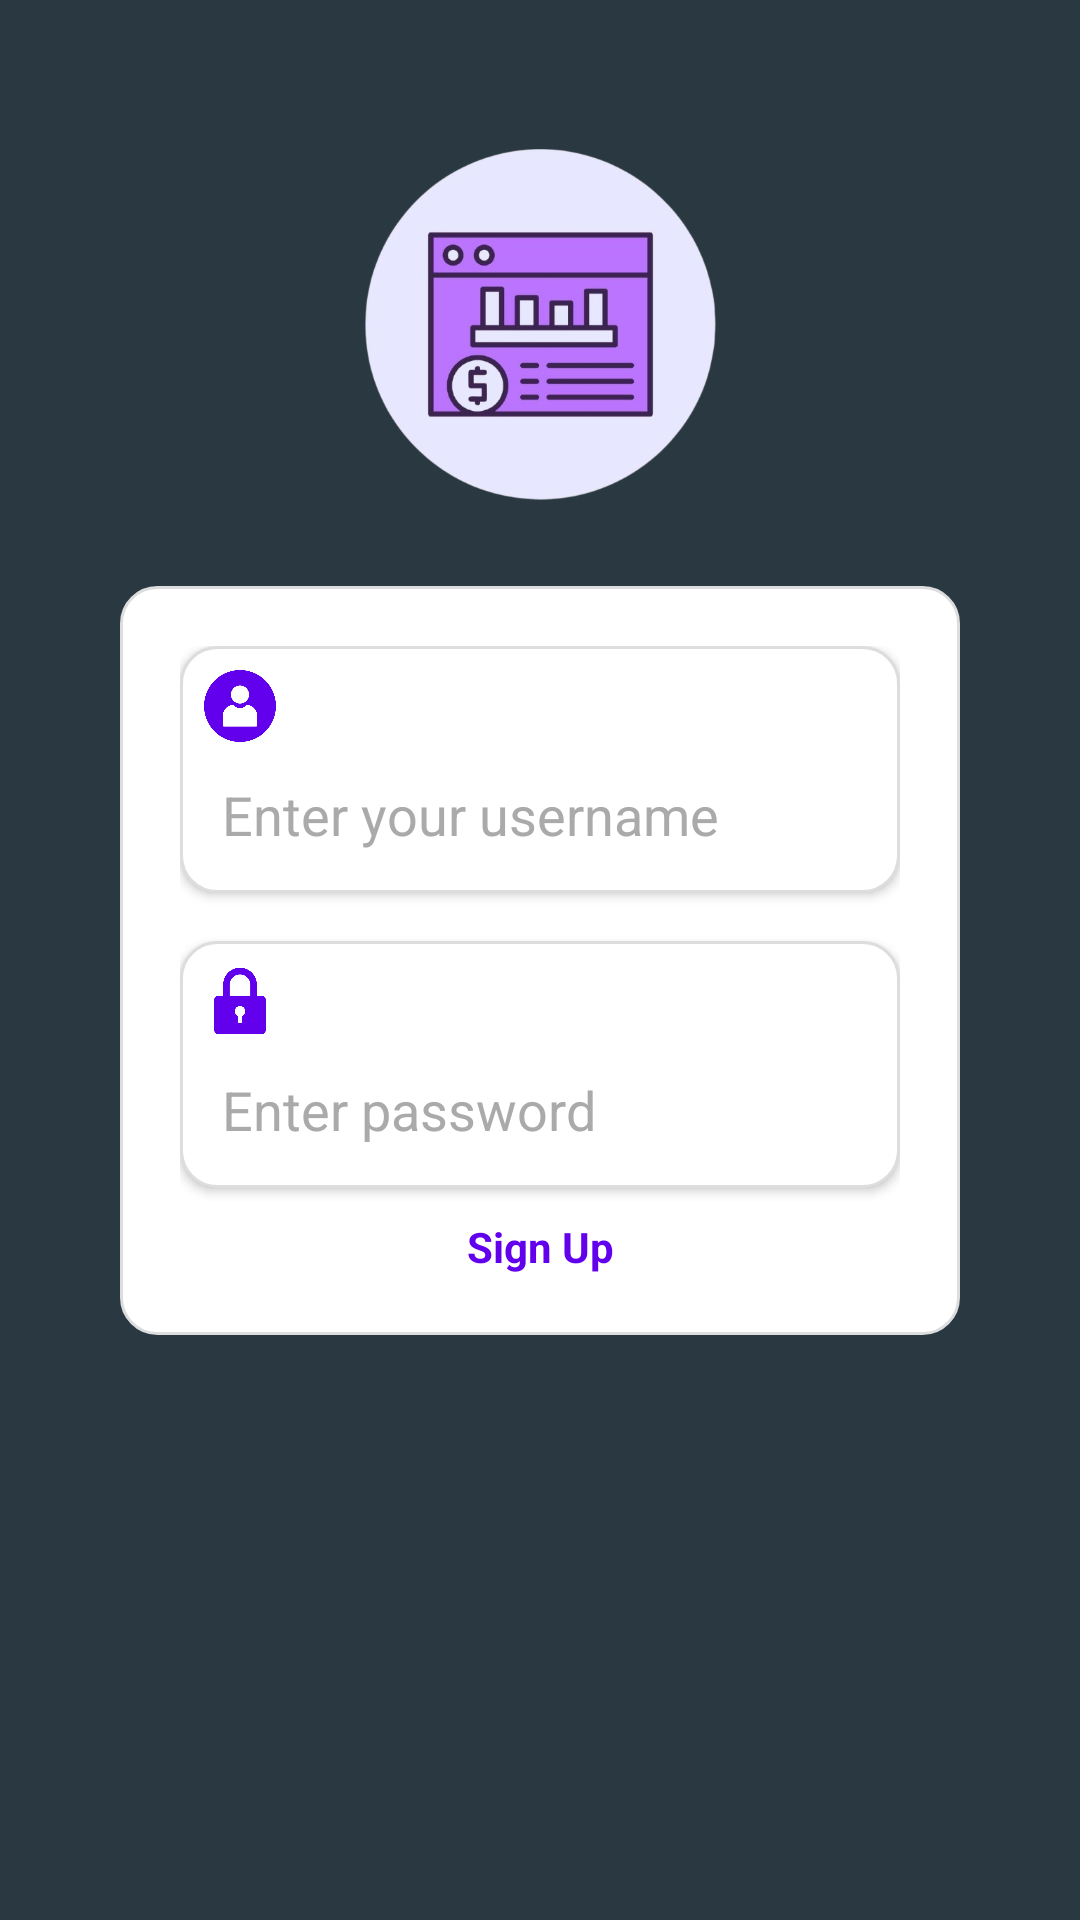

Icons on this 1080 x 1920 Android screen, each with the point to tap as (x=x, y=y):
person: (x=240, y=706)
